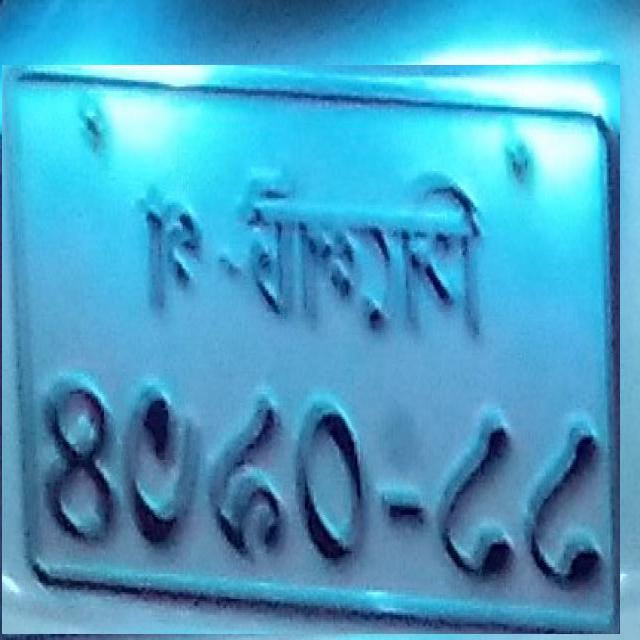cng: (136, 169, 384, 338)
numberplate: (2, 65, 620, 634)
